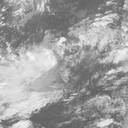cyclone: (25, 44, 66, 92)
